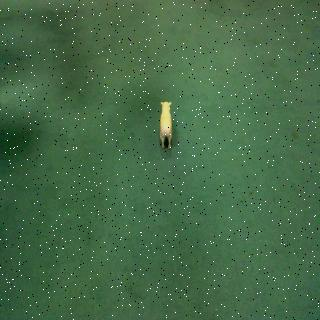sheep: (146, 101, 187, 155)
